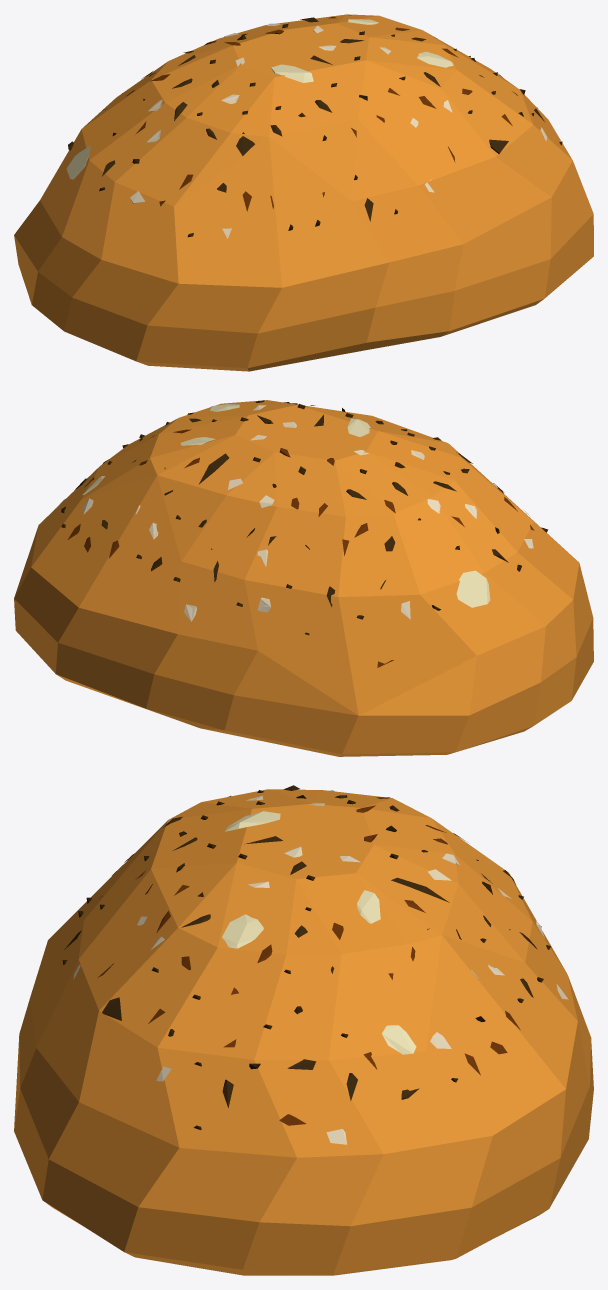
The model's file is topbun.fbx.
3 views of the same model, one above another, from view 1: azimuth 30°, elevation 25°; view 2: azimuth 150°, elevation 25°; view 3: azimuth 270°, elevation 25° (orthographic). The views are drawn at different scales.
Parts seen in each view (by area): view 1: Cube; view 2: Cube; view 3: Cube.
Boxes of the visible parts, x1,y1,x2,y2 form: Cube: (14, 14, 593, 371); Cube: (14, 400, 593, 756); Cube: (14, 785, 593, 1275).
Bounding box in the file's own units: 643 × 273 × 488.
